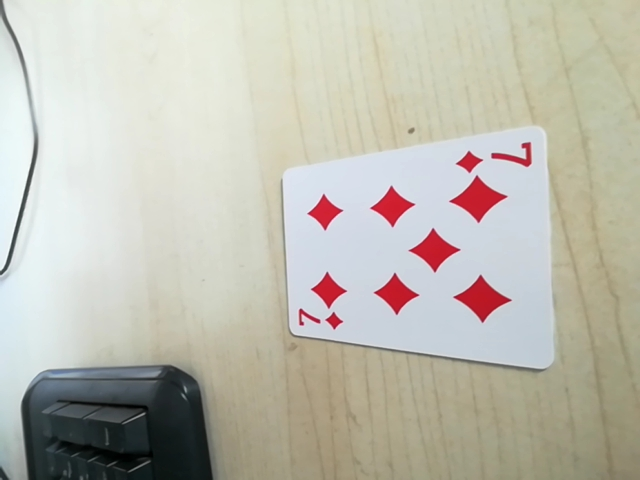fk 7: (457, 138, 538, 177), (292, 305, 349, 335)
